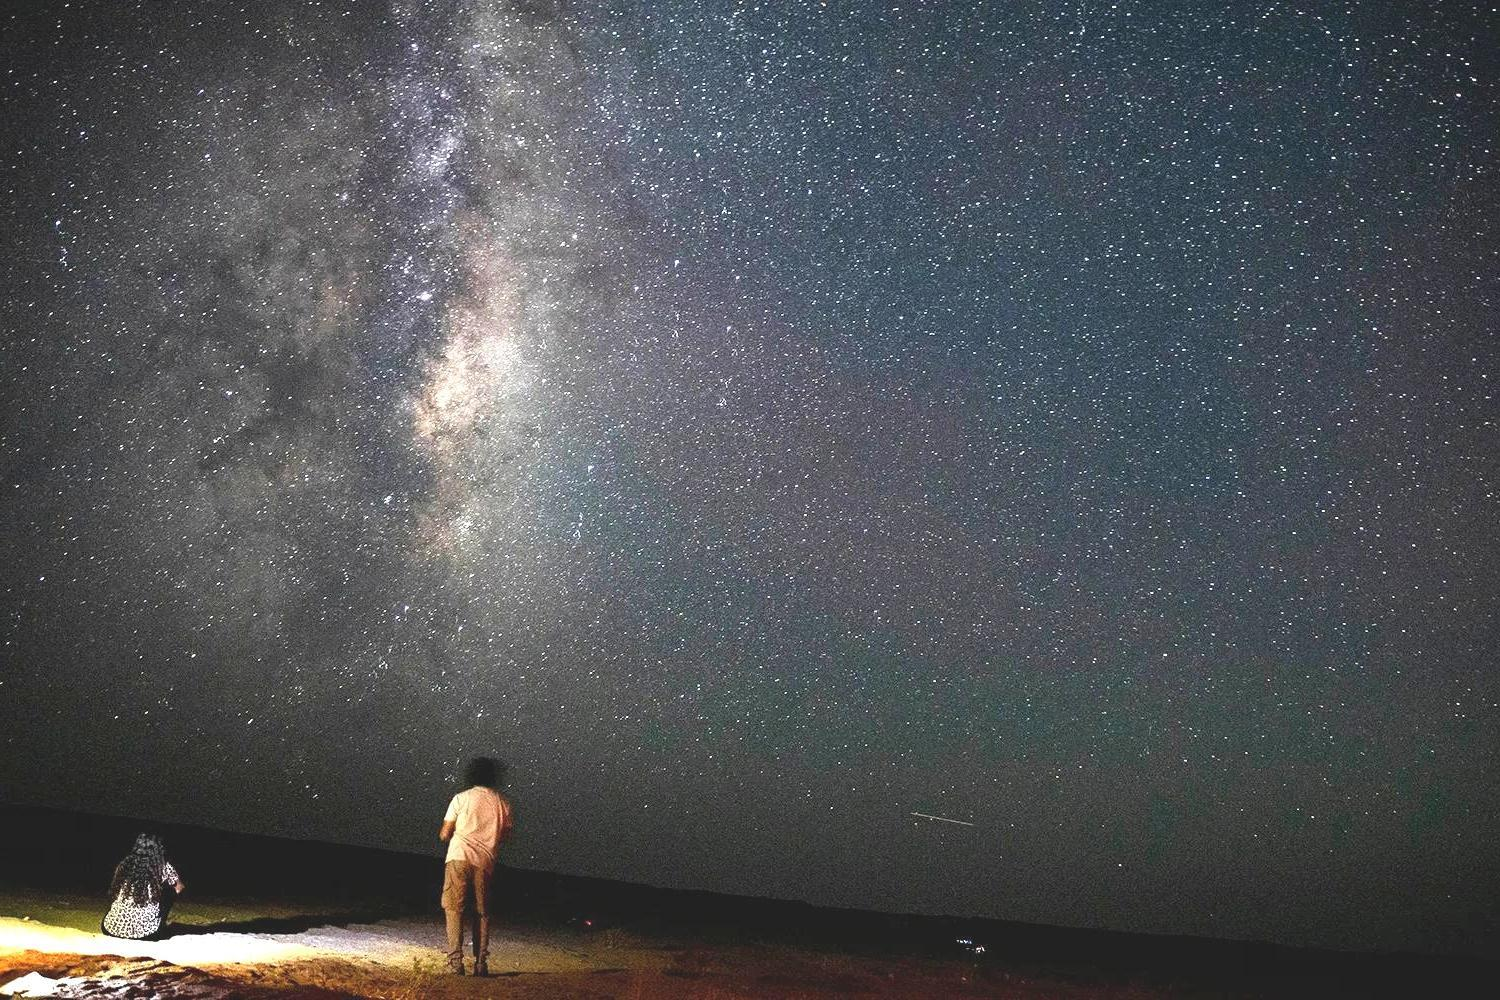meteorite: (901, 809, 983, 835)
